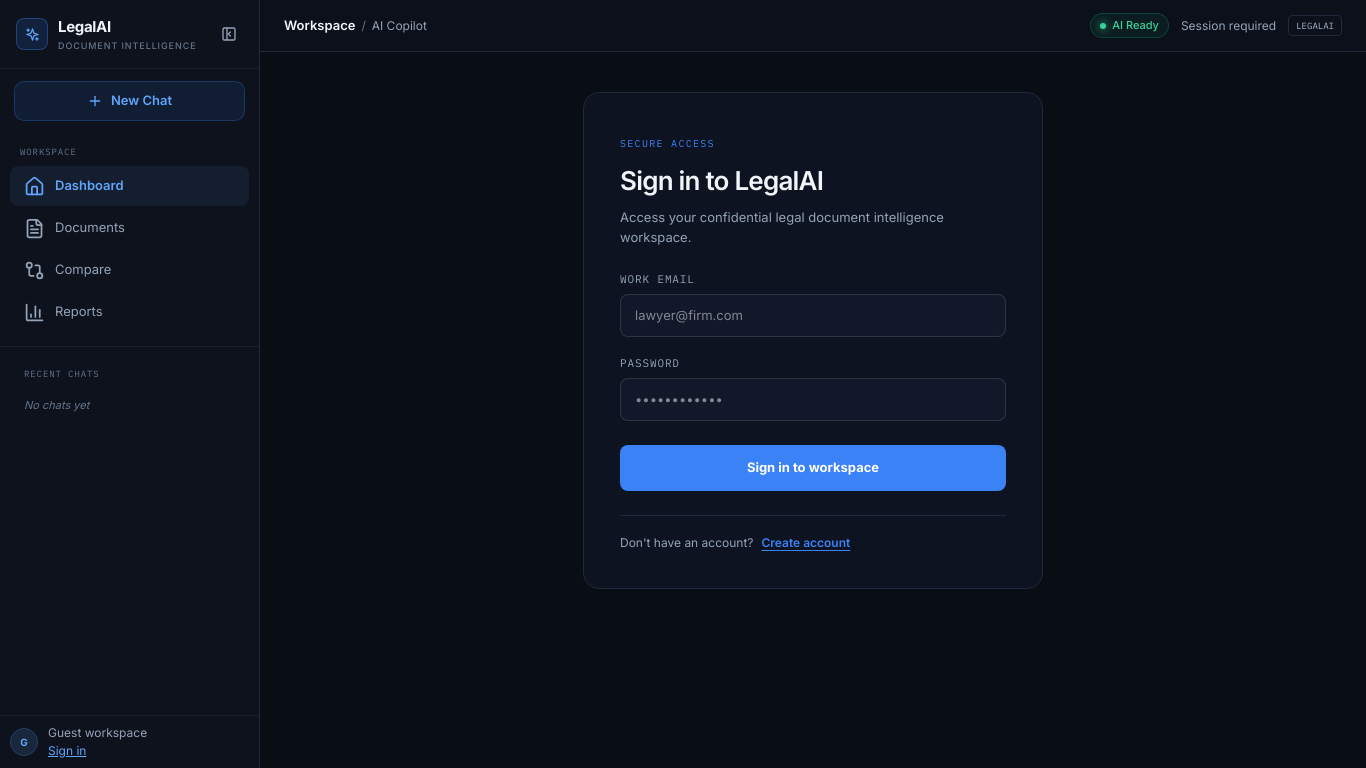
Test: Authentication Frontend Components › validates required fields on login form submission
The image size is (1366, 768).
Click the button "Sign in to workspace".
click(813, 468)  # box left=620, top=445, right=1006, bottom=490
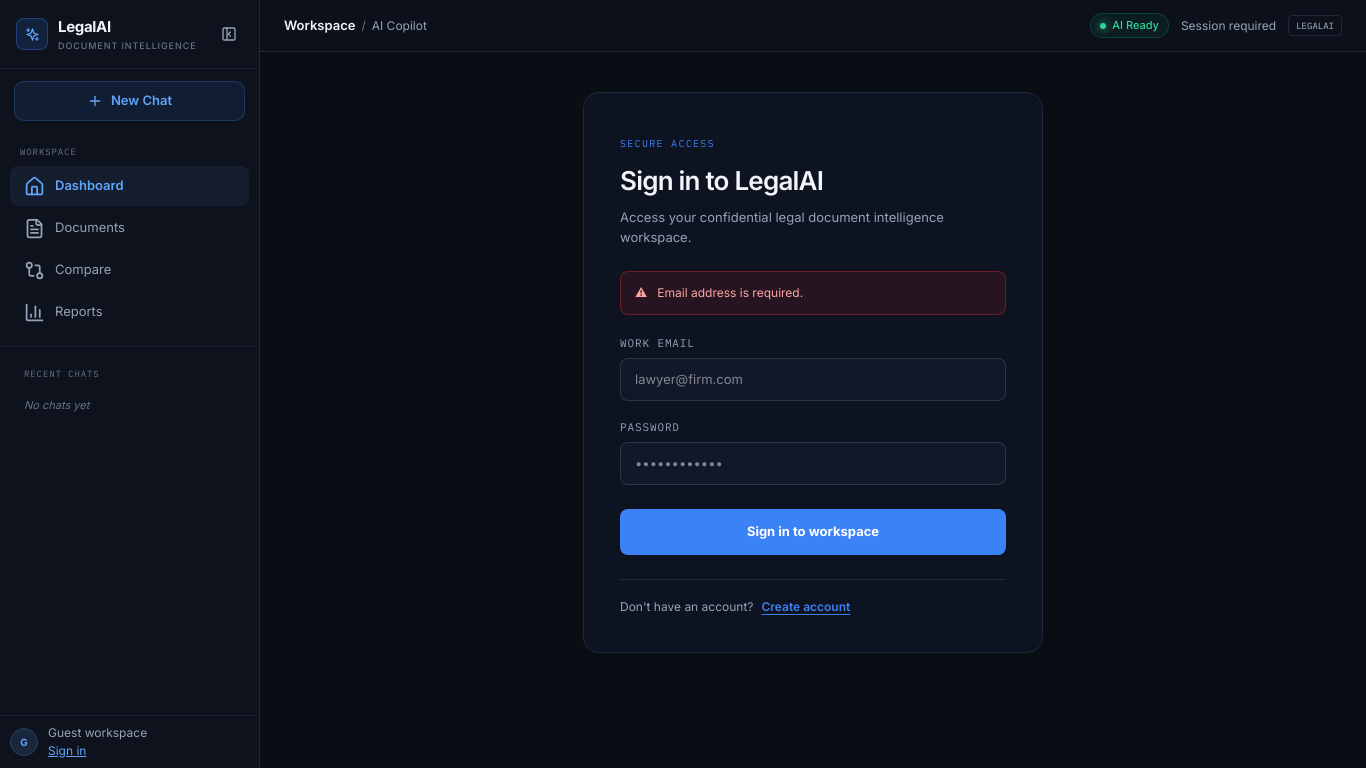
Expected: the text "Email address is required." is shown, left=657, top=284, right=803, bottom=302
